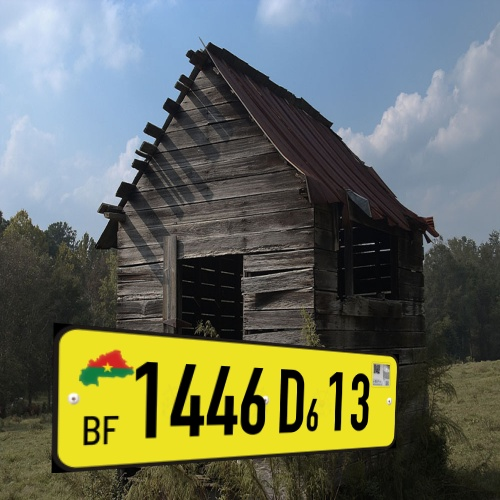plate: (39, 297, 405, 486)
